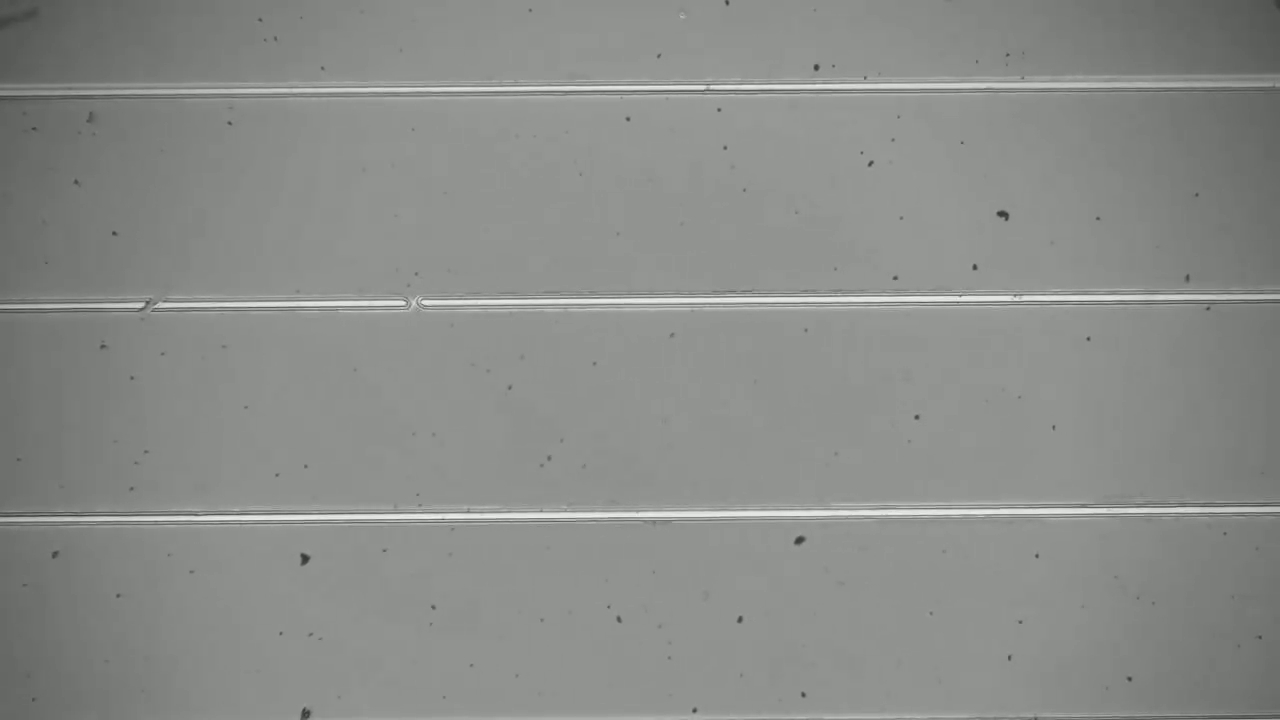open: (388, 284, 431, 322), (133, 286, 174, 321)
